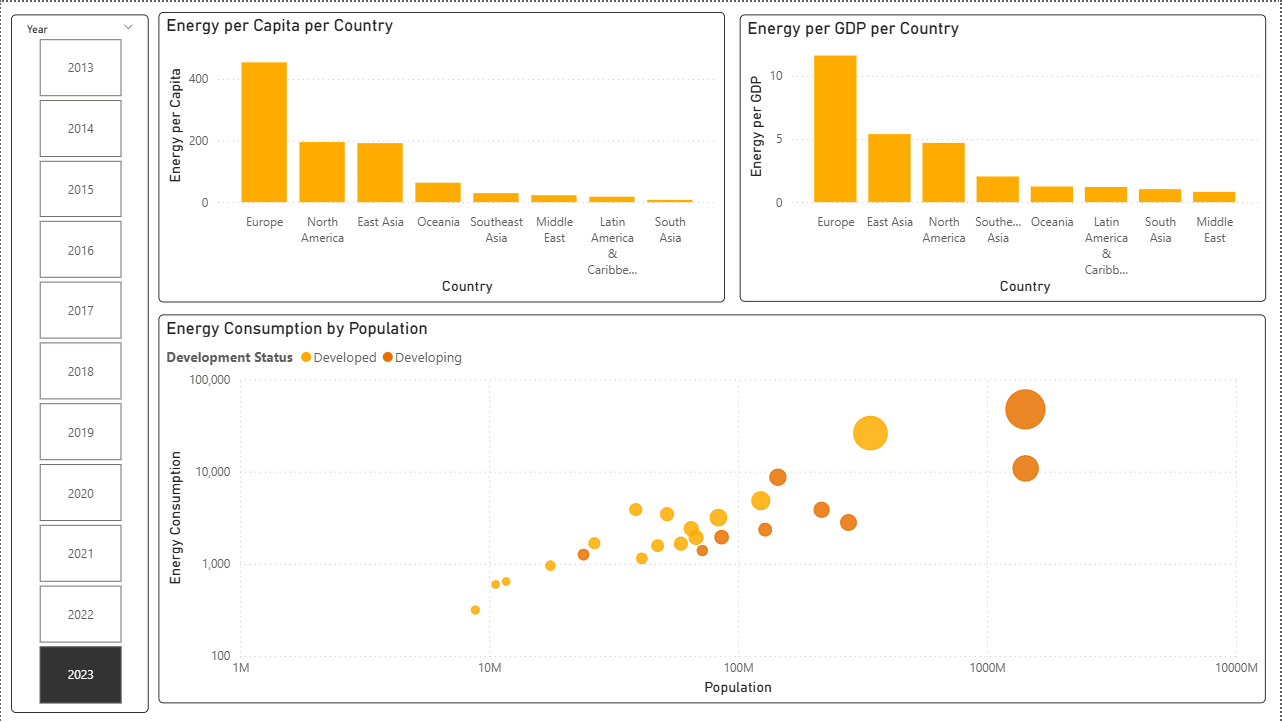

The dashboard page shown, as its layout file describes it:
{"tool":"powerbi","page":{"name":"General","canvas":[1280,720],"ordinal":0},"visuals":[{"type":"slicer","fields":{"Values":["DimYear.Year"]},"box":[10,12.5,137.5,698.8],"z":1000},{"type":"columnChart","title":"Energy per Capita per Country","fields":{"Y":["Sum(FactCountry.EnergyperCapita)"],"Category":["DimCountry.RegionHierarchy.Continent","DimCountry.RegionHierarchy.Region","DimCountry.RegionHierarchy.Country"]},"box":[157.5,10,566.2,290],"z":2000},{"type":"columnChart","title":"Energy per GDP per Country","fields":{"Category":["DimCountry.RegionHierarchy.Continent","DimCountry.RegionHierarchy.Region","DimCountry.RegionHierarchy.Country"],"Y":["Sum(FactCountry.EnergyperGDP)"]},"box":[738.8,12.5,526.2,287.5],"z":3000},{"type":"scatterChart","title":"Energy Consumption by Population ","fields":{"X":["Avg(FactCountry.Population)"],"Size":["Sum(FactCountry.GDP)"],"Series":["DimCountry.DevelopmentStatus"],"Category":["DimCountry.Country"],"Y":["Sum(FactCountry.EnergyConsumption)"]},"box":[157.5,312.5,1107.5,388.8],"z":4000}]}

Visuals, with their boxes in screenshot pixels (x1, y1, x2, y2), scaled from the page's 1280x720 canvas onto the 1282x722 screenshot:
slicer - DimYear.Year: pyautogui.locateOnScreen(10, 13, 148, 713)
"Energy per Capita per Country" columnChart: pyautogui.locateOnScreen(158, 10, 725, 301)
"Energy per GDP per Country" columnChart: pyautogui.locateOnScreen(740, 13, 1267, 301)
"Energy Consumption by Population " scatterChart: pyautogui.locateOnScreen(158, 313, 1267, 703)
